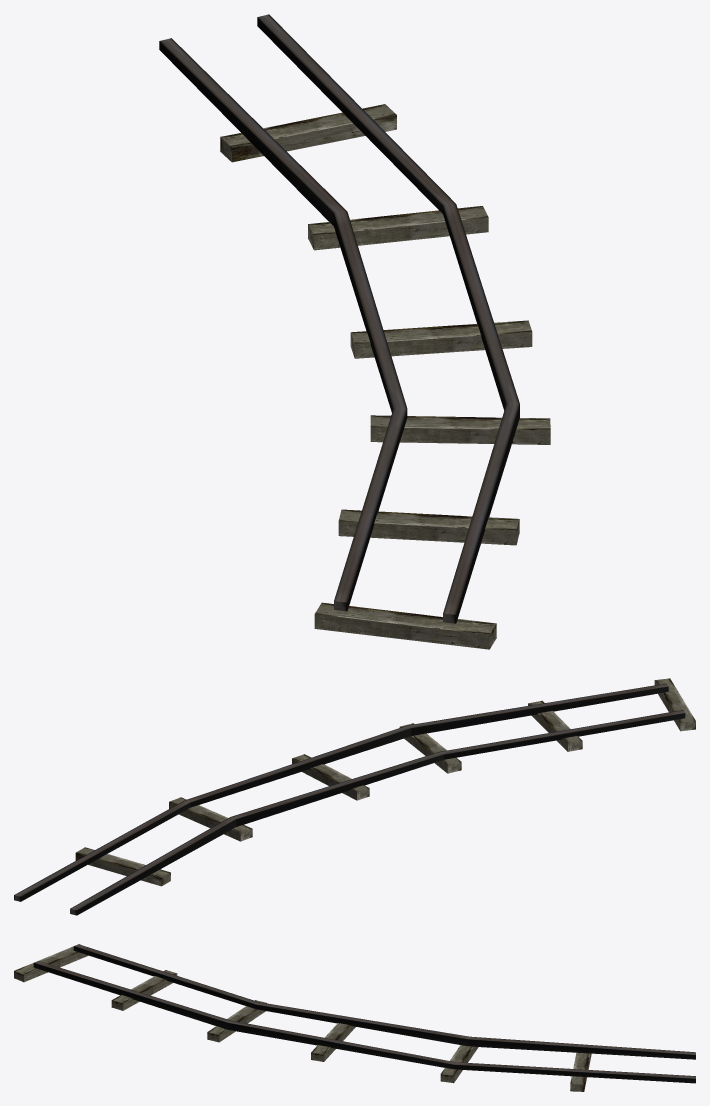
The model's file is pir_m_prp_mng_track_curve45_no_dirt.fbx.
3 renders of one model, top to bottom at view 1: azimuth 30°, elevation 25°; view 2: azimuth 150°, elevation 25°; view 3: azimuth 270°, elevation 25°, orthographic. The views are drawn at different scales.
Visible parts, largest first — view 1: rail, rail_1, pCube17, pCube14, pCube11, pCube12, pCube9, pCube7; view 2: rail, rail_1, pCube7, pCube9, pCube11, pCube17, pCube14, pCube12; view 3: rail, rail_1, pCube17, pCube14, pCube12, pCube11, pCube9, pCube7.
Boxes of the visible parts, <box> form: rail: <box>257,14,519,623</box>; rail_1: <box>159,38,407,611</box>; pCube17: <box>314,602,496,649</box>; pCube14: <box>338,509,519,545</box>; pCube11: <box>350,320,532,358</box>; pCube12: <box>370,415,550,444</box>; pCube9: <box>308,206,488,250</box>; pCube7: <box>220,104,396,162</box>; rail: <box>14,683,668,901</box>; rail_1: <box>70,710,685,915</box>; pCube7: <box>75,847,170,886</box>; pCube9: <box>169,797,252,841</box>; pCube11: <box>292,754,369,800</box>; pCube17: <box>654,678,695,731</box>; pCube14: <box>528,700,582,751</box>; pCube12: <box>399,723,461,773</box>; rail: <box>33,961,695,1083</box>; rail_1: <box>73,944,695,1059</box>; pCube17: <box>14,944,88,982</box>; pCube14: <box>111,970,177,1010</box>; pCube12: <box>207,1000,267,1042</box>; pCube11: <box>311,1023,355,1061</box>; pCube9: <box>440,1045,478,1083</box>; pCube7: <box>570,1052,591,1091</box>.
Size of the model in its own units: 1367 by 67.51 by 2803.
1 material, 1 textured.
